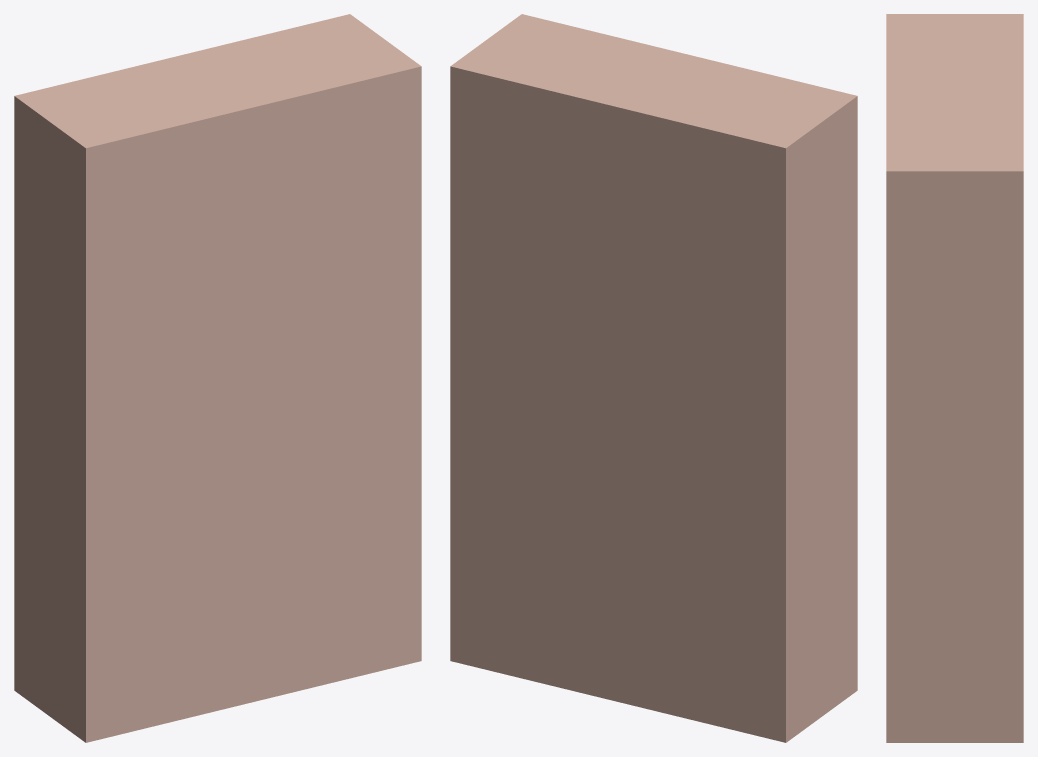
The model's file is sigorta buton_altligi.fbx.
3 renders of one model, left to right at view 1: azimuth 30°, elevation 25°; view 2: azimuth 150°, elevation 25°; view 3: azimuth 270°, elevation 25°, orthographic. The views are drawn at different scales.
Parts seen in each view (by area): view 1: generated; view 2: generated; view 3: generated.
Part boxes in pixels (x1,y1,x2,y2): generated: [14, 14, 421, 742]; generated: [450, 14, 857, 742]; generated: [886, 14, 1023, 742].
Size of the model in its own units: 130 by 220 by 48.
